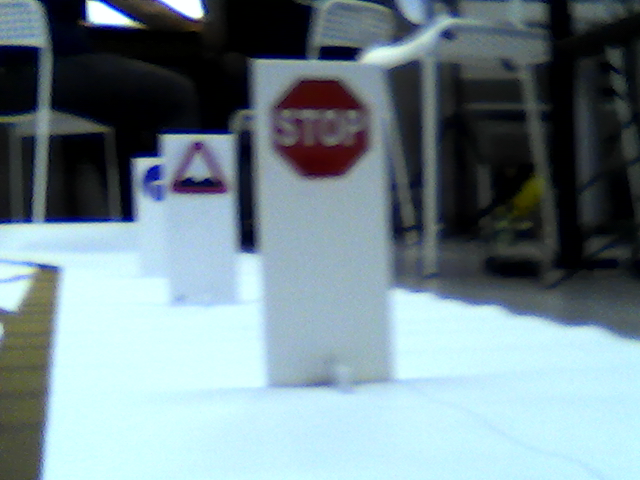Nerov: (167, 143, 228, 195)
Stop: (275, 72, 371, 182)
